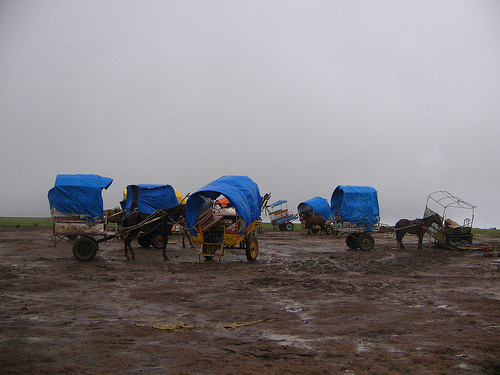horse: (120, 203, 190, 262), (394, 213, 444, 251), (298, 209, 328, 237)
